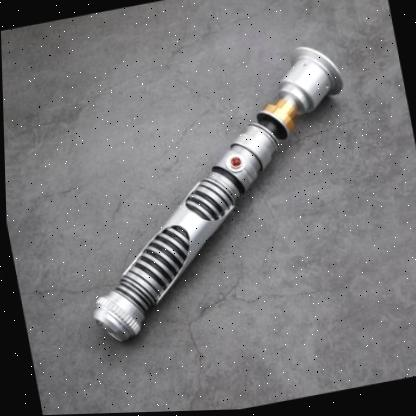lightsaber: (78, 28, 357, 359)
